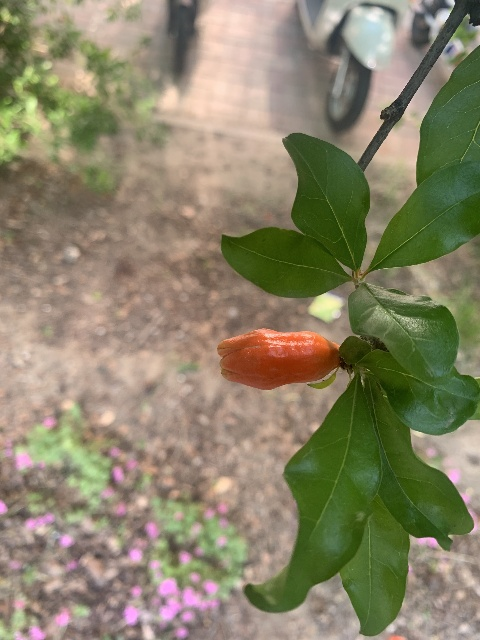bud: (216, 327, 340, 389)
